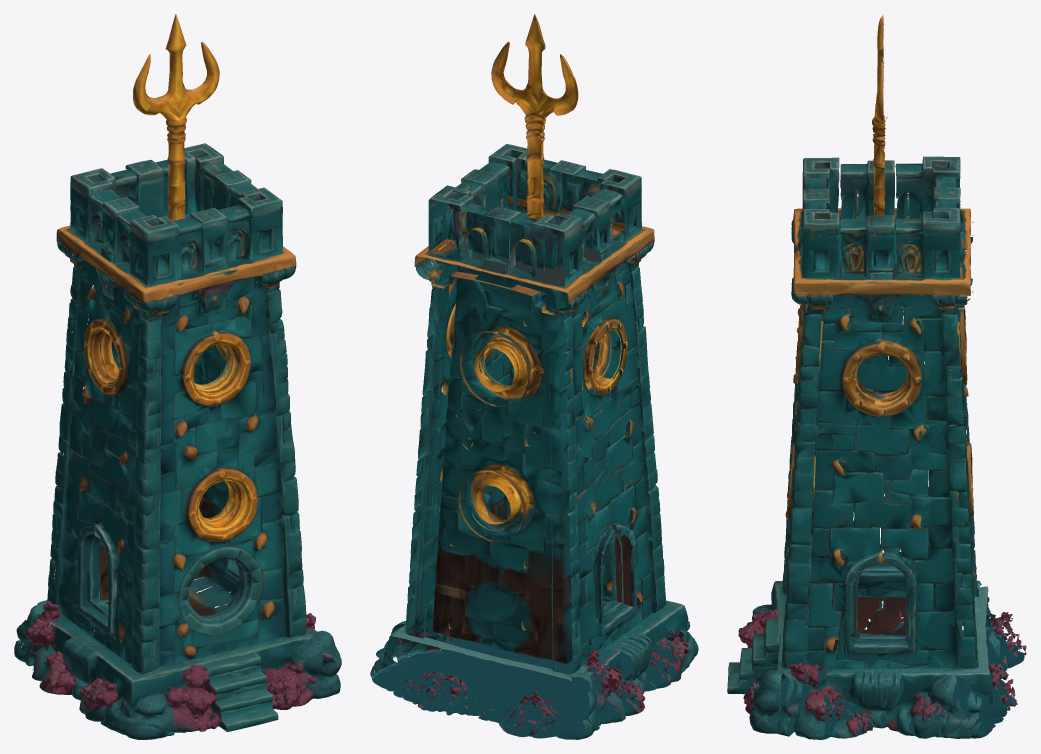
Rendered from atlantis_tower.glb.
3 views of the same model, side by side, from view 1: azimuth 30°, elevation 25°; view 2: azimuth 150°, elevation 25°; view 3: azimuth 270°, elevation 25° (orthographic).
Bounding box in the file's own units: 0.727 × 1.9 × 0.7732.
1 material, 1 textured.
